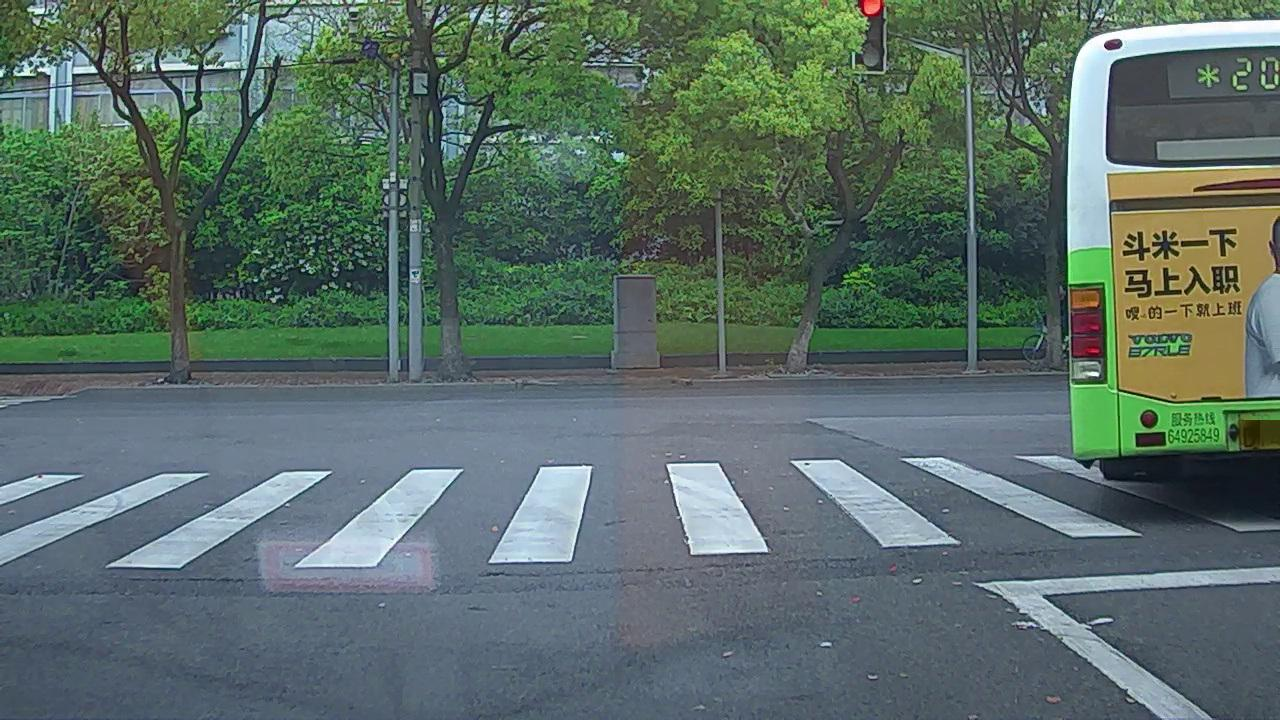traffic_light: (856, 1, 883, 72)
